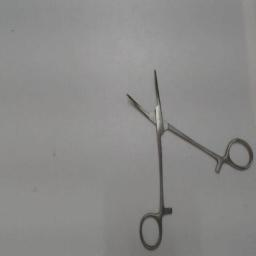Crile Artery Forceps: (120, 61, 254, 253)
